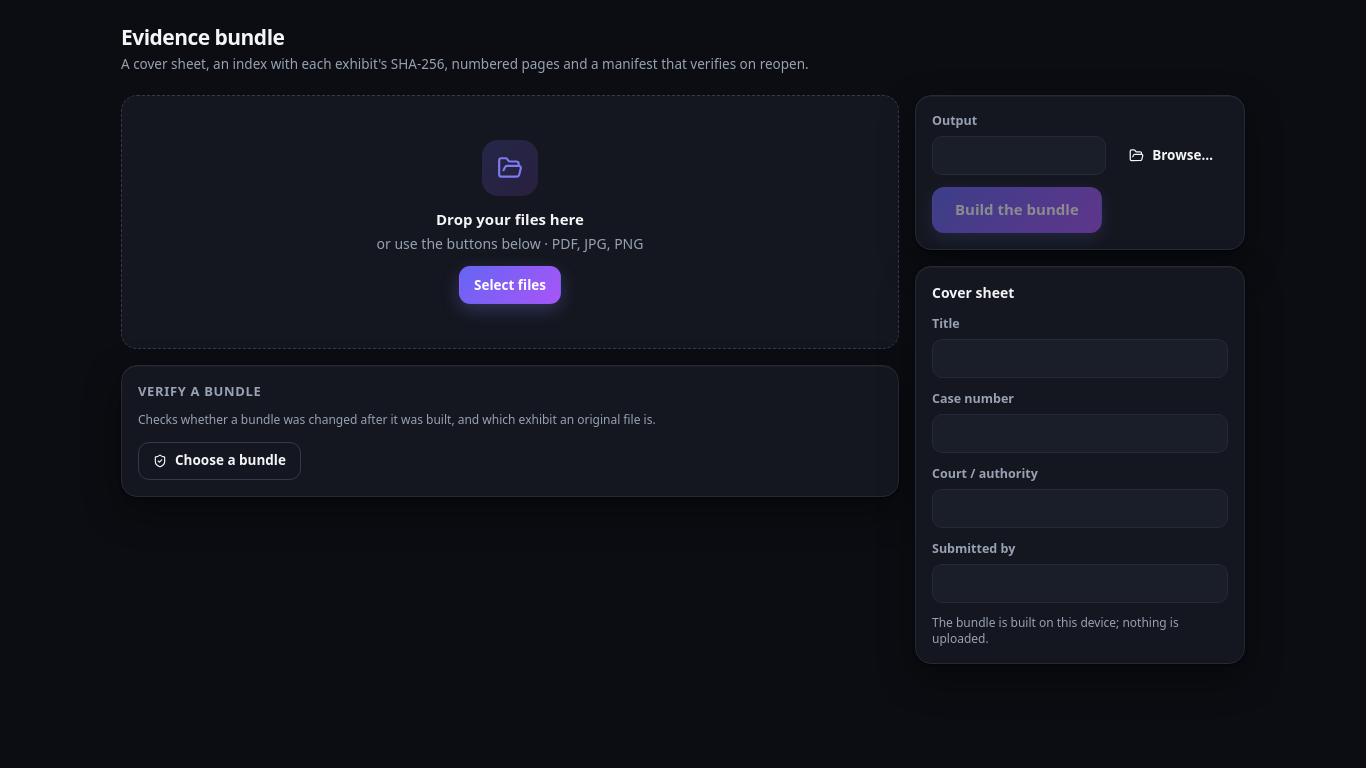
evidence bundle screen › says when a bundle was changed or carries no manifest
What coordinates should you click on to do the following:
click the button "Choose a bundle"
I would click on:
 (220, 460)
Its box is left=138, top=442, right=301, bottom=480.
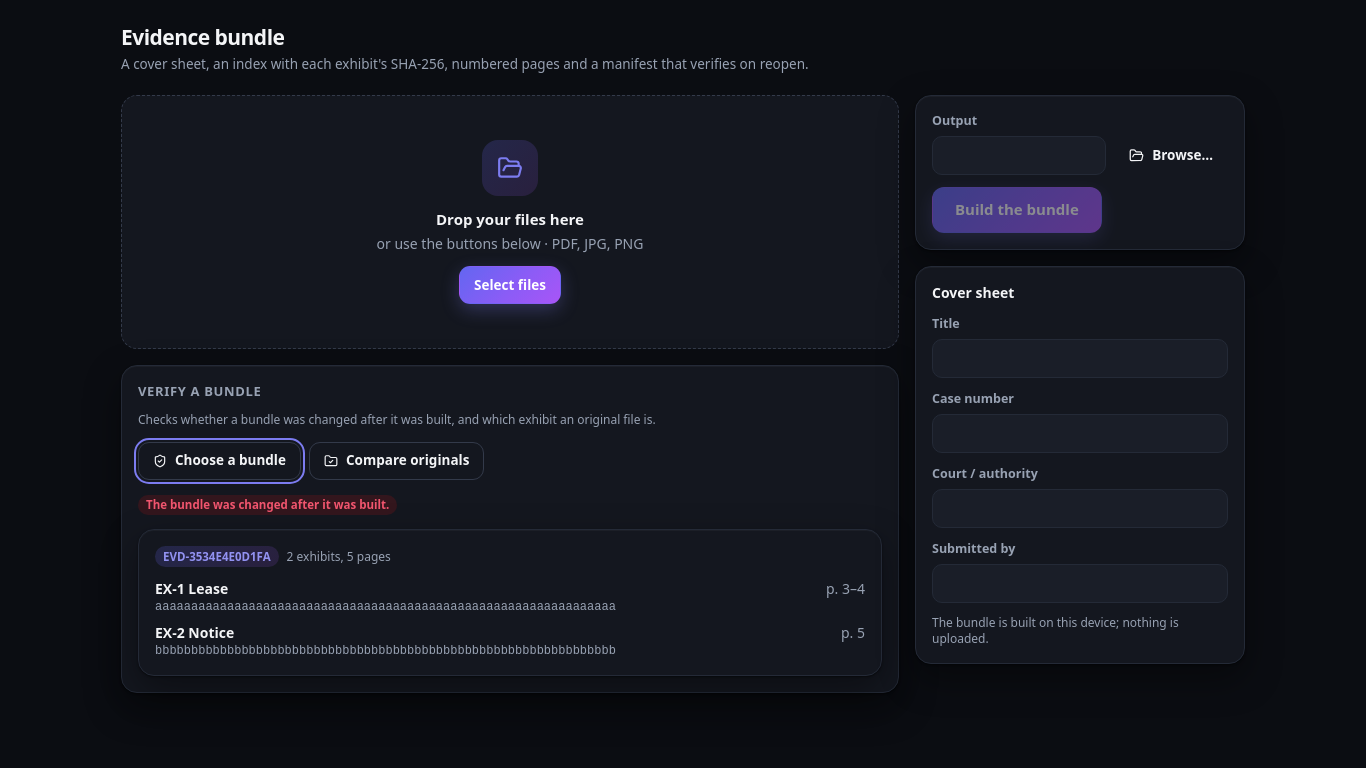
Expected: the text "The bundle was changed after it was built." is shown, left=138, top=494, right=397, bottom=515
What coordinates should you click on to do the following:
click the button "Choose a bundle"
I would click on:
 (220, 460)
Its box is left=138, top=442, right=301, bottom=480.
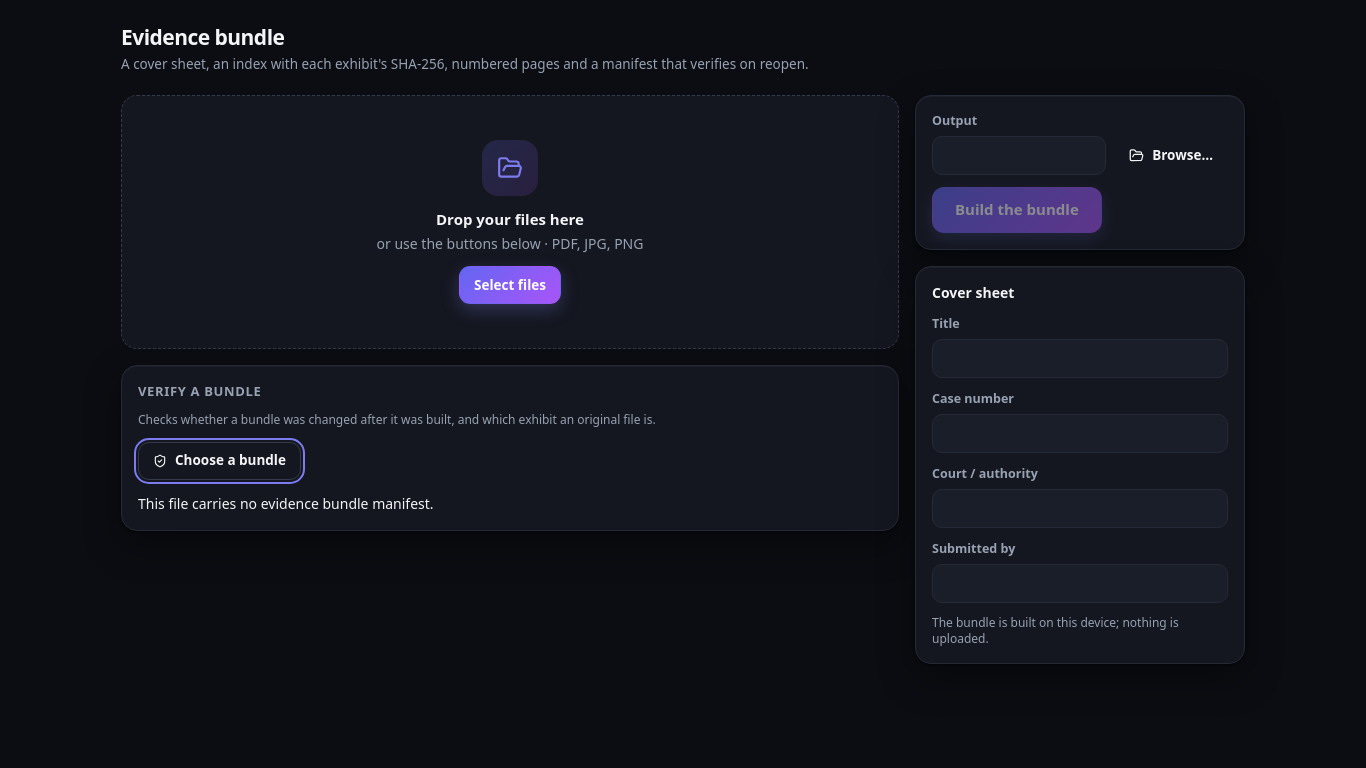
Expected: the text "This file carries no evidence bundle manifest." is shown, left=138, top=494, right=434, bottom=512
